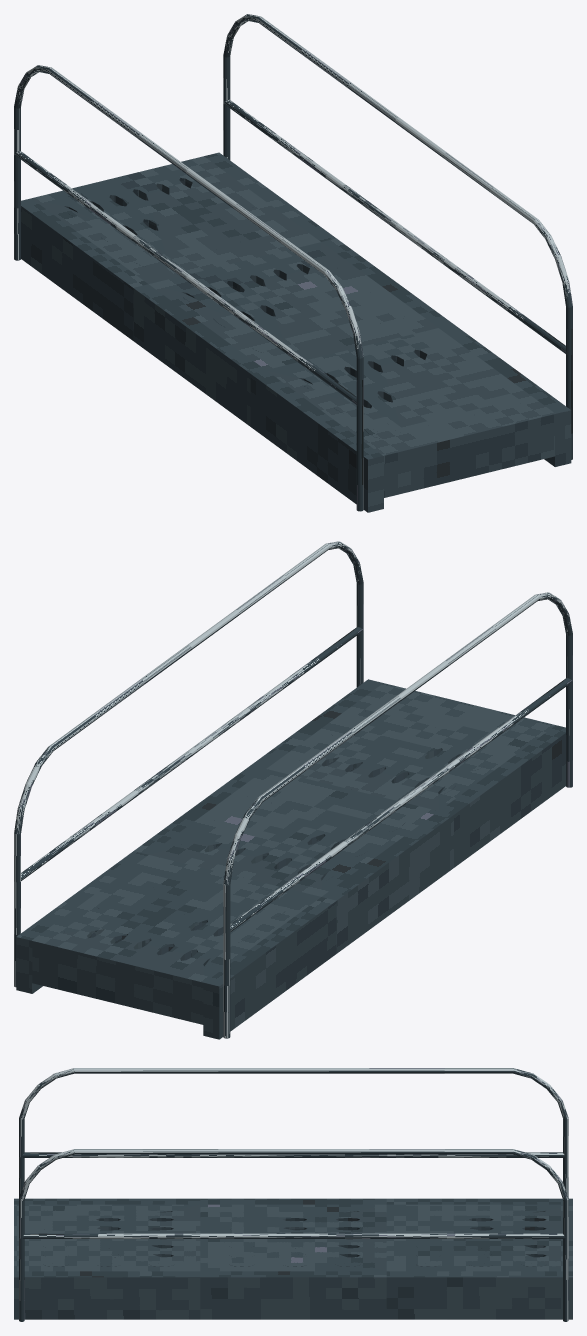
The model's file is catPlat3x1.fbx.
3 renders of one model, top to bottom at view 1: azimuth 30°, elevation 25°; view 2: azimuth 150°, elevation 25°; view 3: azimuth 270°, elevation 25°, orthographic. The views are drawn at different scales.
Parts seen in each view (by area): view 1: CatPlat1.003, catPlat3Rail.001, catPlat3Rail; view 2: CatPlat1.003, catPlat3Rail.001, catPlat3Rail; view 3: CatPlat1.003, catPlat3Rail, catPlat3Rail.001.
Boxes of the visible parts, x1,y1,x2,y2 form: CatPlat1.003: (21, 152, 571, 512); catPlat3Rail.001: (14, 65, 363, 511); catPlat3Rail: (223, 14, 572, 459); CatPlat1.003: (16, 679, 565, 1039); catPlat3Rail.001: (223, 592, 572, 1038); catPlat3Rail: (14, 541, 363, 987); CatPlat1.003: (14, 1198, 572, 1319); catPlat3Rail: (19, 1149, 568, 1321); catPlat3Rail.001: (19, 1068, 568, 1198).
Bounding box in the file's own units: 212 × 600 × 203.
2 materials, 2 textured.
